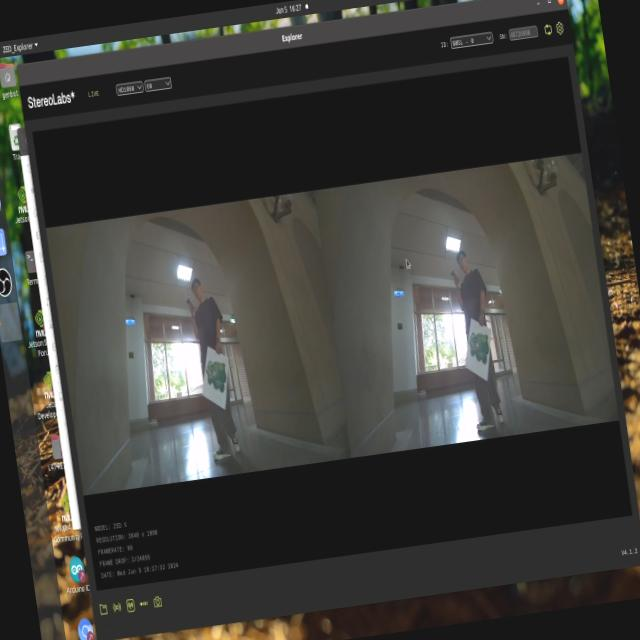green: (464, 331, 499, 378), (203, 357, 233, 400)
